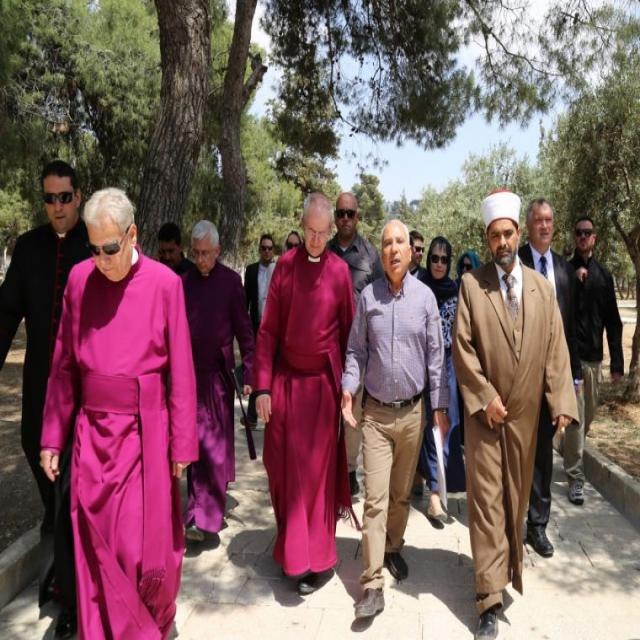body: (36, 180, 203, 639), (445, 183, 581, 639), (338, 216, 454, 626), (0, 158, 99, 636), (248, 186, 356, 597), (174, 216, 258, 548), (517, 195, 585, 561), (546, 212, 625, 509), (322, 191, 388, 498), (416, 235, 468, 525), (240, 231, 277, 428), (408, 228, 432, 499), (156, 220, 204, 292), (451, 246, 486, 297), (274, 228, 306, 261)
